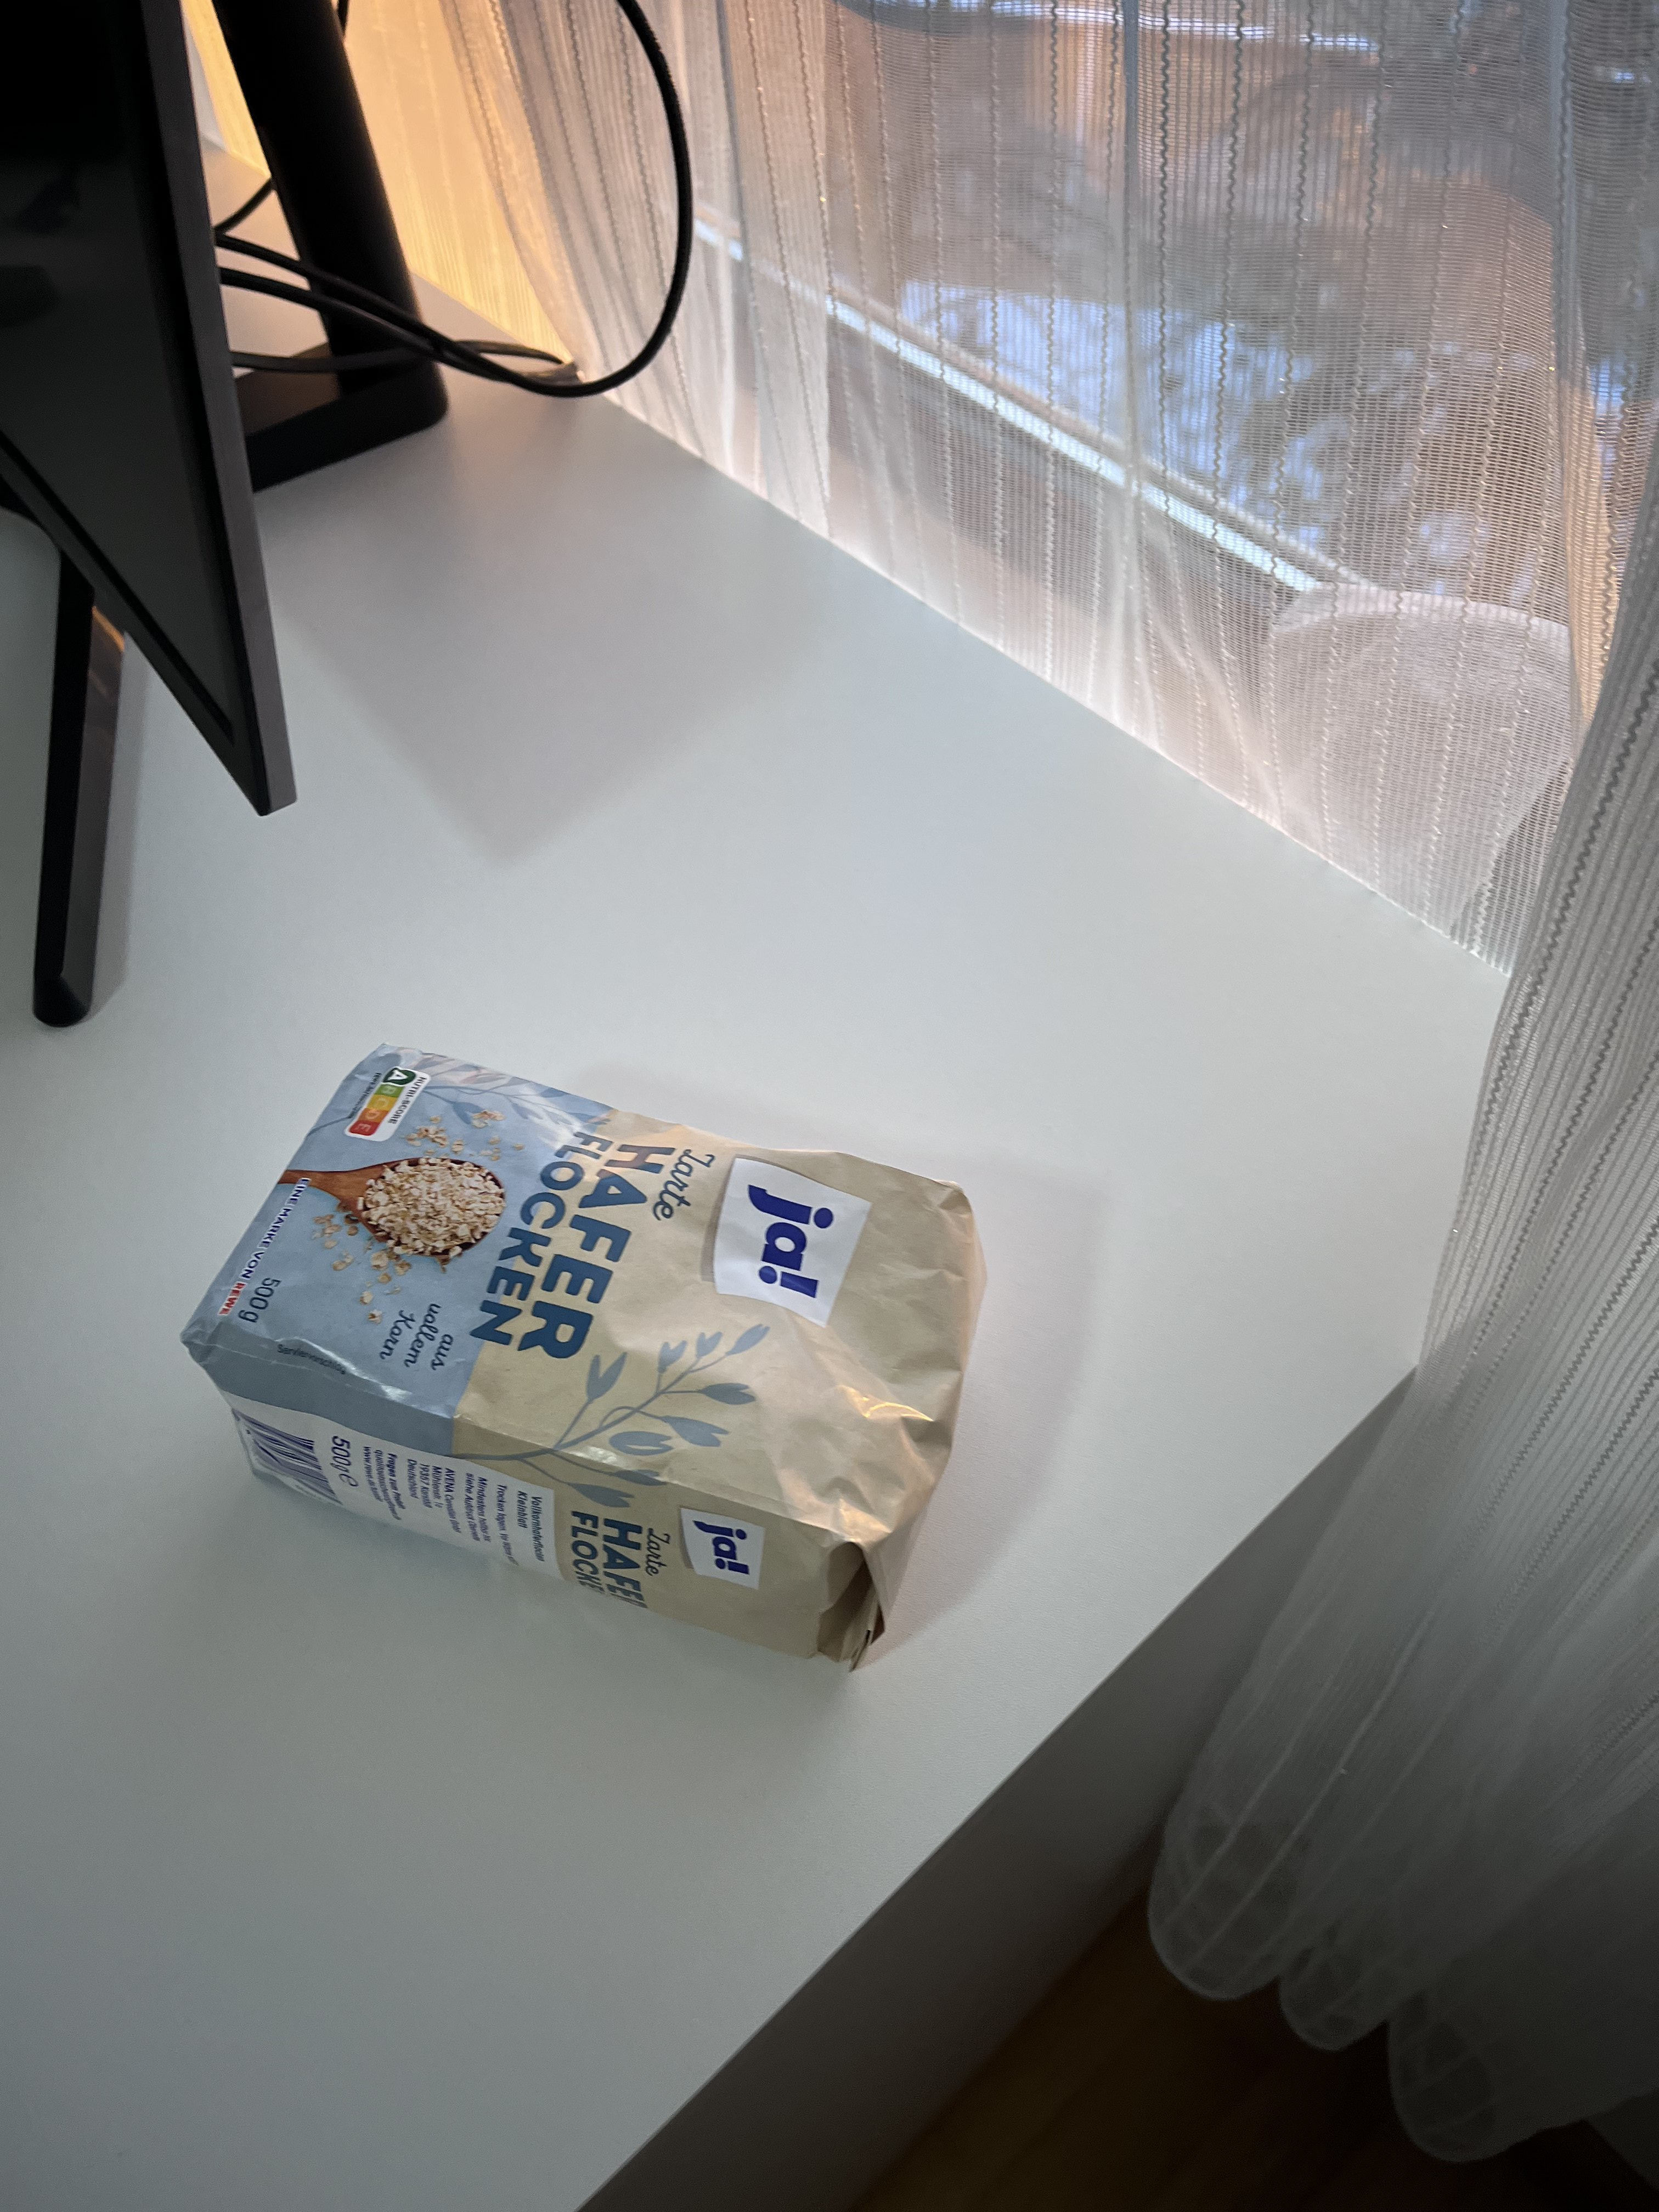haferflocken_ja: (185, 1049, 979, 1667)
